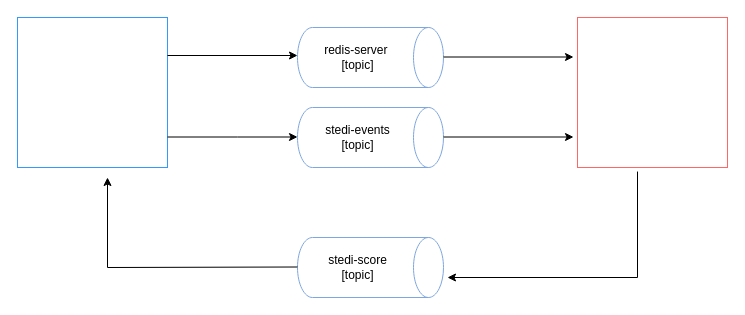
The diagram is 745 pixels wide and 315 high, and some of its shapes have lost their labels. The centre of each missing label's shape, as x and y in pixels:
"Spark Streaming" goes at point (652, 92).
"STEDI Application" goes at point (92, 92).
